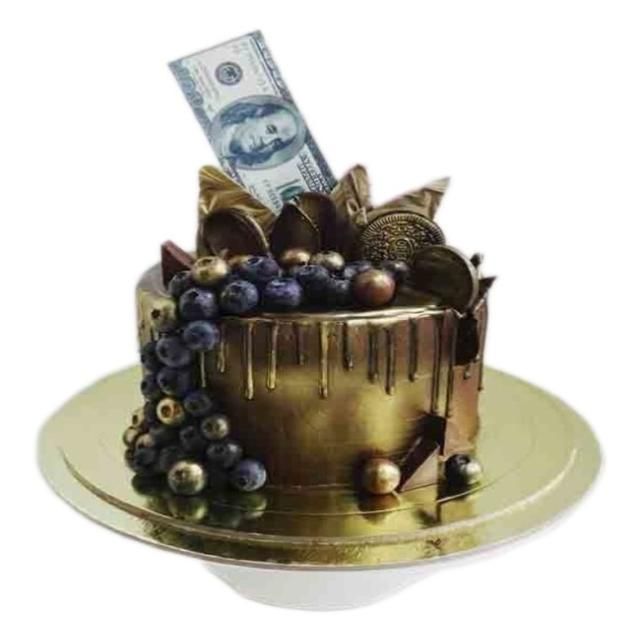Wet Waste: (51, 38, 548, 562)
